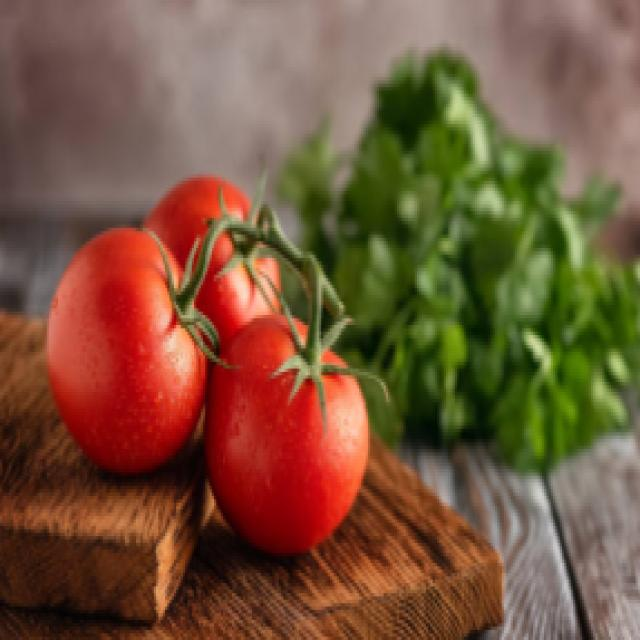Tomato: (54, 208, 214, 489), (221, 292, 371, 558)
